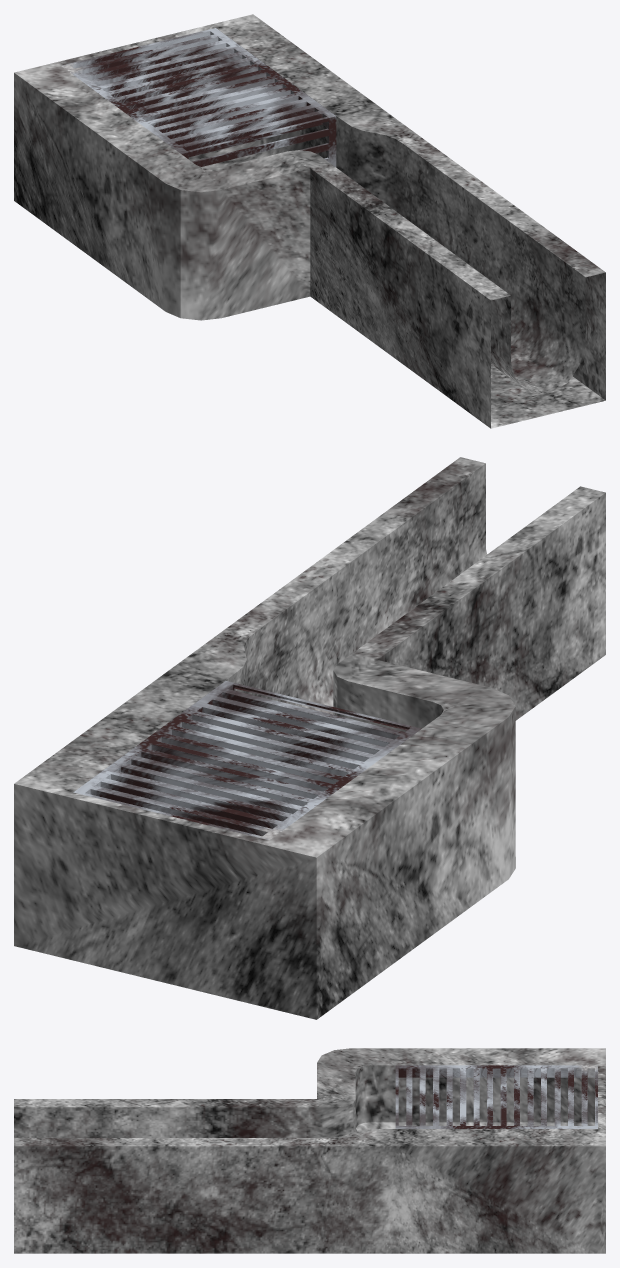
The model's file is Drain_stairsLeft.fbx.
3 views of the same model, one above another, from view 1: azimuth 30°, elevation 25°; view 2: azimuth 150°, elevation 25°; view 3: azimuth 270°, elevation 25° (orthographic). The views are drawn at different scales.
Parts seen in each view (by area): view 1: drain_stairs, drain_plane, drain_plane1; view 2: drain_stairs, drain_plane; view 3: drain_stairs, drain_plane.
Boxes of the visible parts, x1=… form: drain_stairs: x1=14, y1=14, x2=605, y2=428; drain_plane: x1=61, y1=28, x2=335, y2=156; drain_plane1: x1=181, y1=116, x2=336, y2=167; drain_stairs: x1=14, y1=457, x2=605, y2=1019; drain_plane: x1=73, y1=681, x2=421, y2=840; drain_stairs: x1=14, y1=1048, x2=605, y2=1253; drain_plane: x1=395, y1=1065, x2=597, y2=1128.
Bounding box in the file's own units: 99.95 × 52.38 × 255.
1 material, 1 textured.
